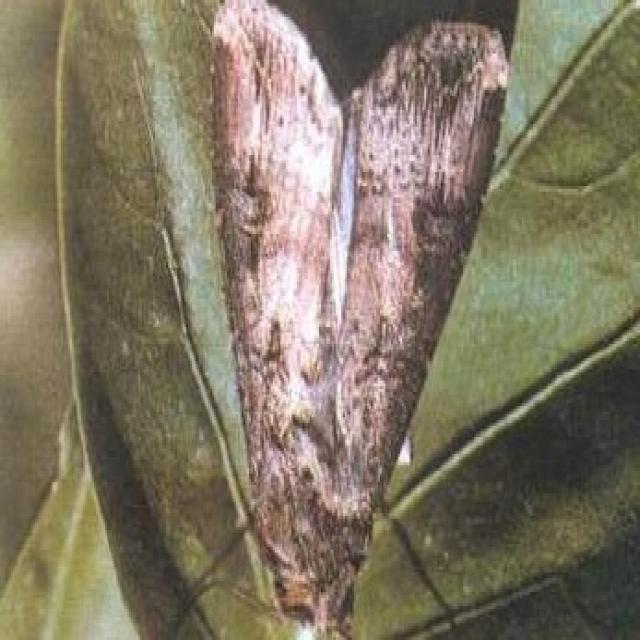black cutworm: (191, 1, 530, 638)
